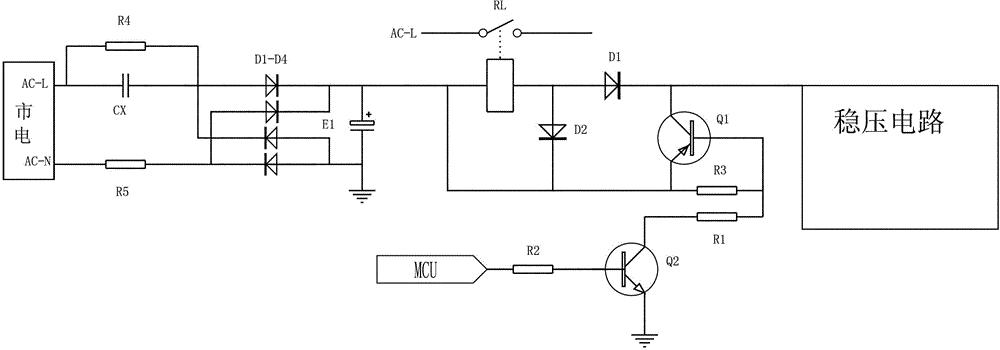cap1: (117, 69, 135, 102), (345, 119, 379, 134)
diode: (602, 67, 626, 104), (537, 119, 569, 146), (260, 151, 282, 180), (261, 72, 282, 99), (261, 99, 281, 126), (261, 126, 281, 151)
gnd: (349, 184, 378, 208), (631, 330, 662, 350)
res1: (101, 36, 149, 56), (694, 181, 741, 200), (100, 156, 151, 172), (509, 261, 557, 278), (694, 210, 742, 225)
switch: (473, 14, 526, 41)
triode: (654, 108, 712, 166), (603, 240, 660, 299)
